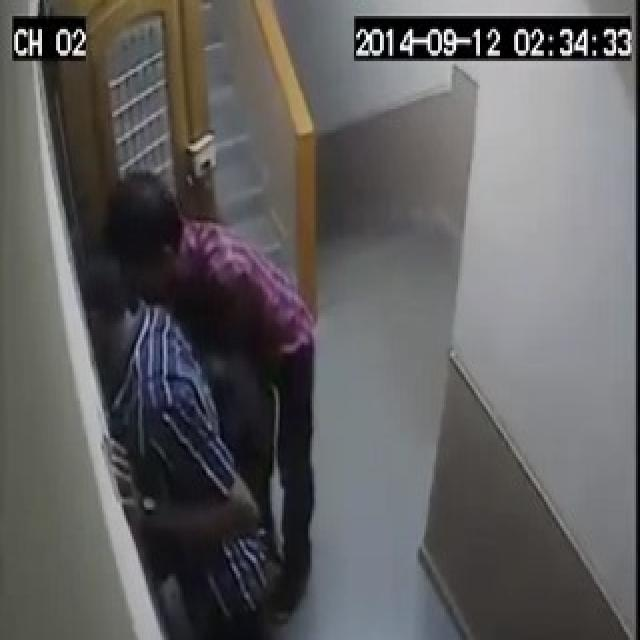thief: (70, 185, 333, 616)
